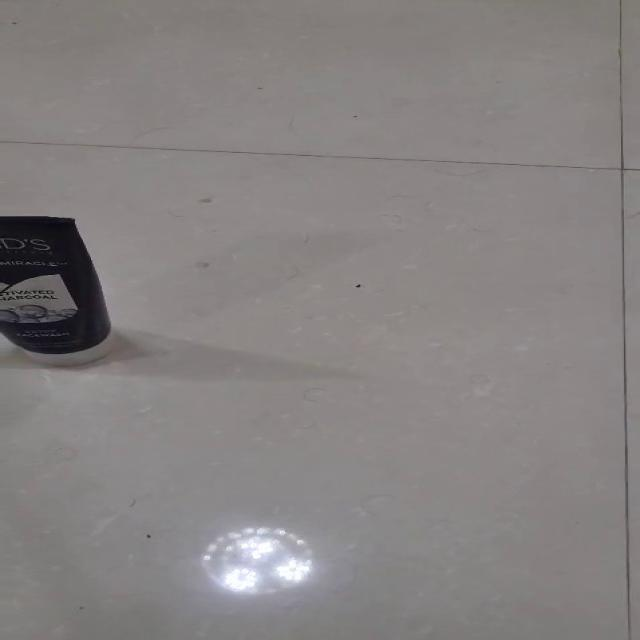plastic: (0, 215, 114, 366)
